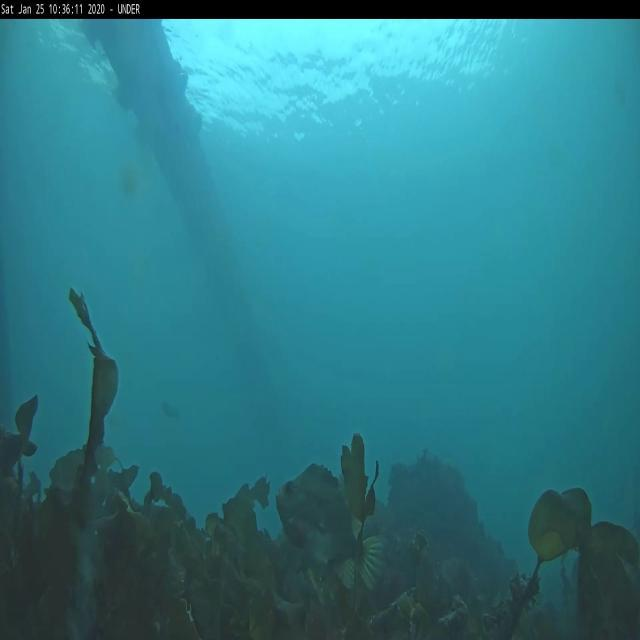fish: (160, 398, 182, 423)
